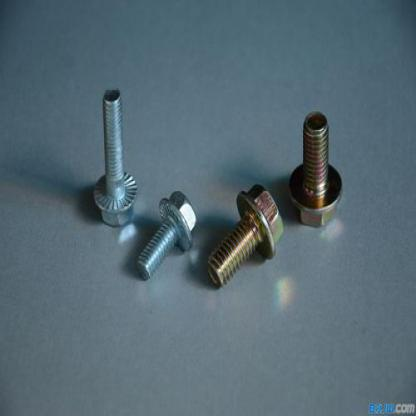FOD: (206, 181, 286, 290), (286, 110, 344, 230), (92, 88, 138, 231), (136, 188, 198, 282)
